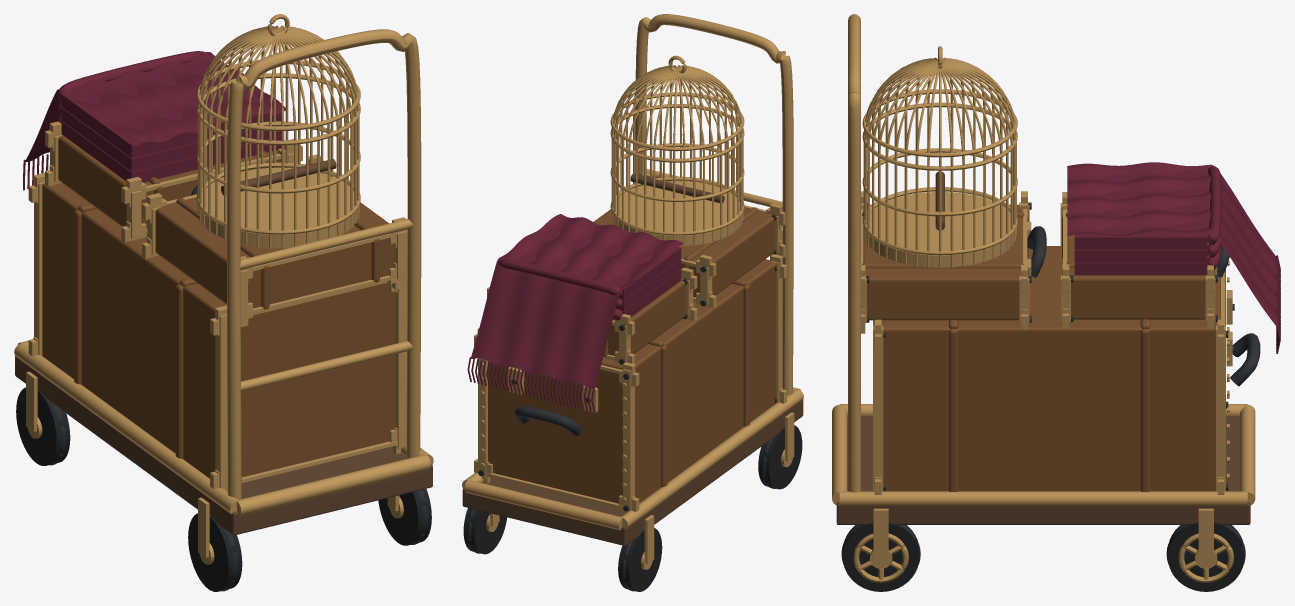
The model's file is trolley.glb.
3 views of the same model, side by side, from view 1: azimuth 30°, elevation 25°; view 2: azimuth 150°, elevation 25°; view 3: azimuth 270°, elevation 25° (orthographic). The views are drawn at different scales.
Visible parts, largest first — view 1: trolley_leather.008, trolley_brass.008, trolley_cloth.008, trolley_wood.008, trolley_soot.001, trolley_black.008; view 2: trolley_leather.008, trolley_brass.008, trolley_cloth.008, trolley_wood.008, trolley_soot.001, trolley_black.008; view 3: trolley_leather.008, trolley_brass.008, trolley_cloth.008, trolley_wood.008, trolley_soot.001, trolley_black.008.
Part boxes in pixels (x1,y1,x2,y2): trolley_leather.008: (42,135,395,481); trolley_brass.008: (14,14,433,564); trolley_cloth.008: (23,51,285,190); trolley_wood.008: (15,159,432,535); trolley_soot.001: (16,387,431,591); trolley_black.008: (49,177,427,591); trolley_leather.008: (488,207,775,508); trolley_brass.008: (462,14,803,569); trolley_cloth.008: (467,214,683,412); trolley_wood.008: (462,173,803,545); trolley_soot.001: (463,425,802,591); trolley_black.008: (467,184,777,591); trolley_leather.008: (862,204,1220,491); trolley_brass.008: (832,14,1255,582); trolley_cloth.008: (1067,162,1280,353); trolley_wood.008: (836,171,1250,524); trolley_soot.001: (842,522,1244,591); trolley_black.008: (841,202,1260,564).
Bounding box in the file's own units: 0.7979 × 1.89 × 1.52.
